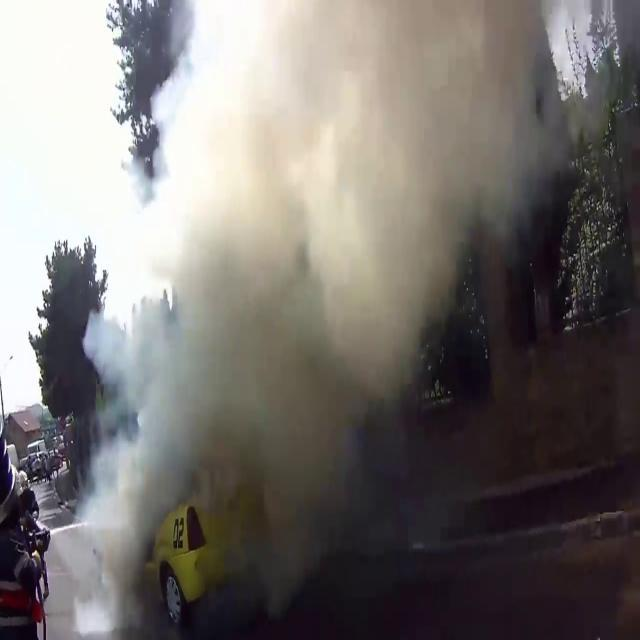Smoke: (56, 0, 584, 613)
